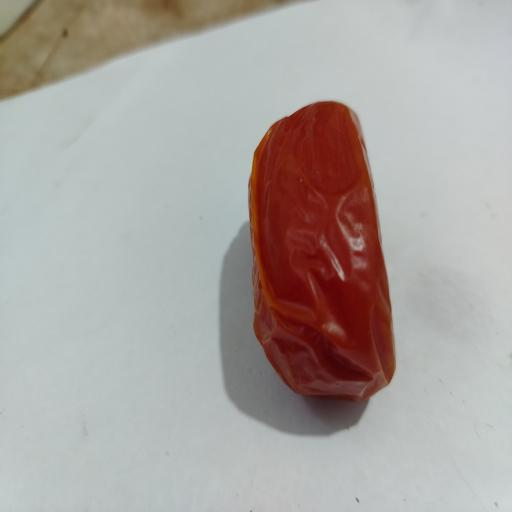spoiled: (249, 102, 395, 400)
